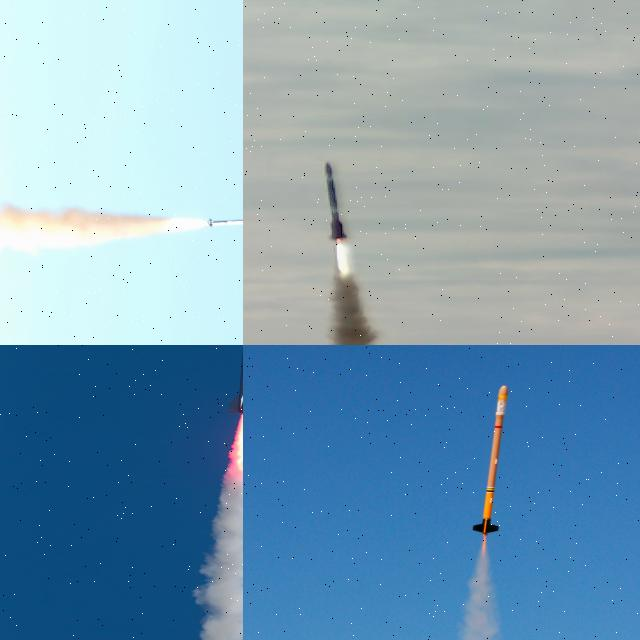Rocket: (472, 385, 512, 537), (325, 162, 348, 242), (224, 345, 243, 418), (207, 218, 243, 227)
